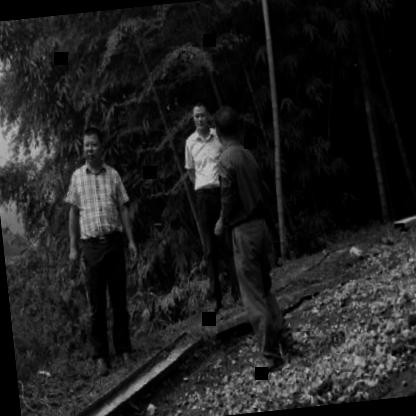head: (76, 122, 110, 168), (213, 100, 243, 143), (187, 94, 215, 134)
